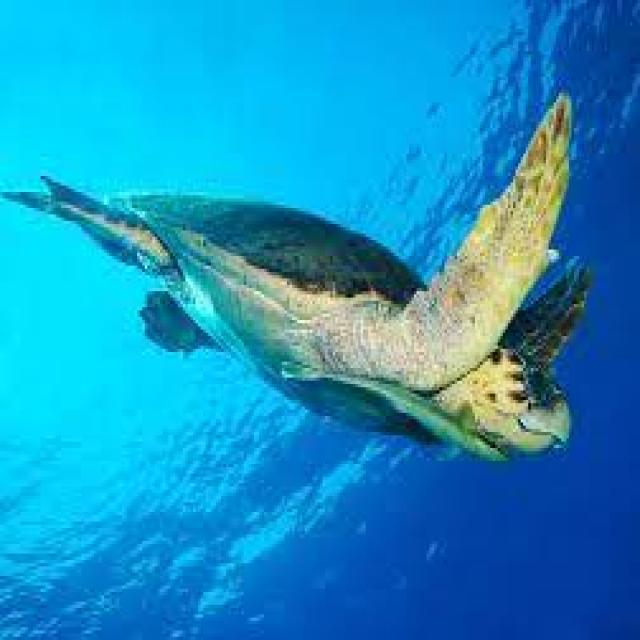Sea turtle: (1, 91, 592, 468)
